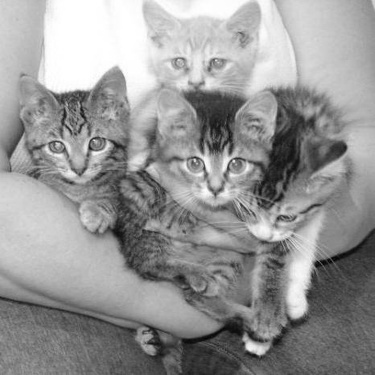cat: (127, 91, 259, 329), (234, 86, 347, 359), (119, 1, 262, 171), (15, 66, 133, 238)
